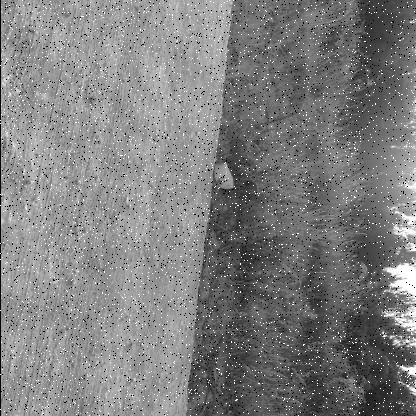foam: (213, 163, 233, 189)
